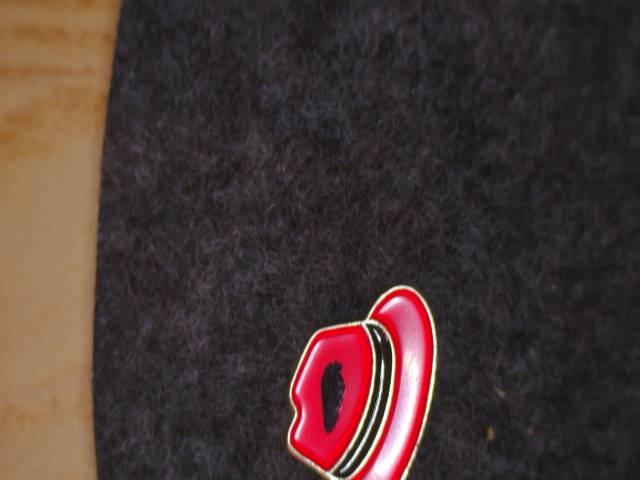Red-Hat: (267, 265, 452, 480)
Scratch: (308, 356, 364, 443)
